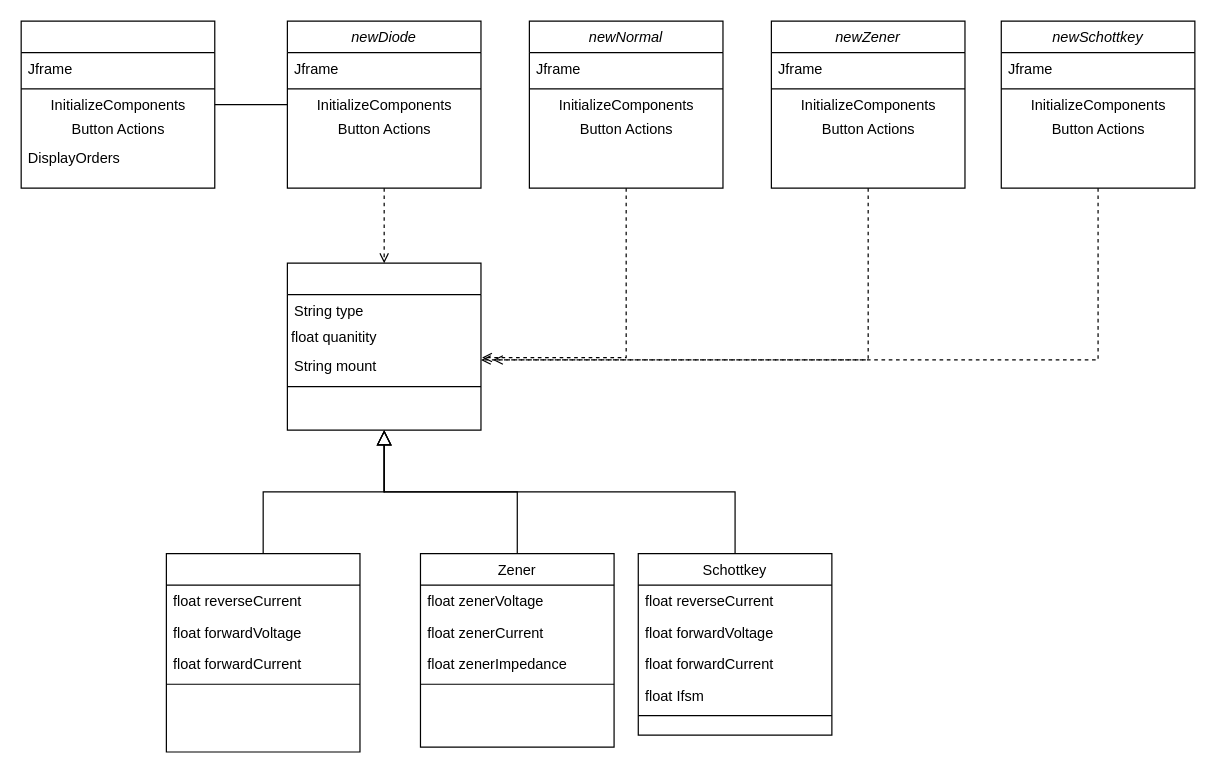
The diagram is 1216 pixels wide and 773 high, and some of its shapes have lost their labels. Here are the shapes that lost their labels. From the top down, the box of each, then its label:
(20, 20, 215, 188): MainScreen
(286, 262, 481, 430): Diode
(165, 552, 360, 752): Normal
